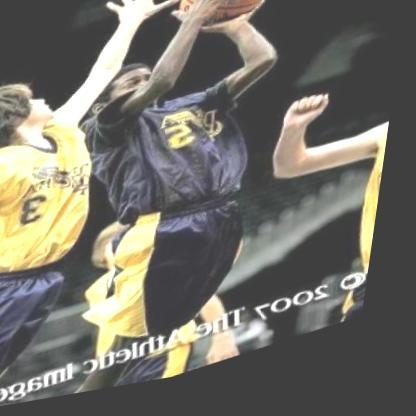basketball: (165, 0, 286, 54)
